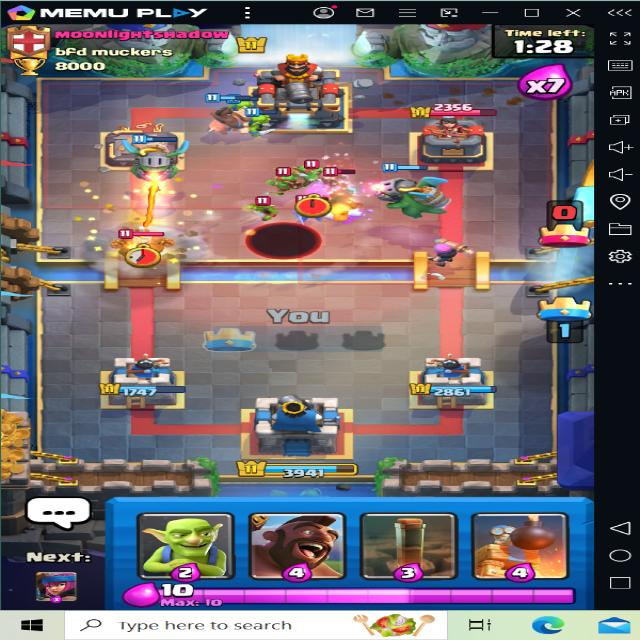goblin: (250, 193, 278, 220)
monk: (110, 227, 175, 264)
spear-goblin: (266, 162, 308, 193), (292, 154, 329, 188)
void: (239, 221, 338, 263)
